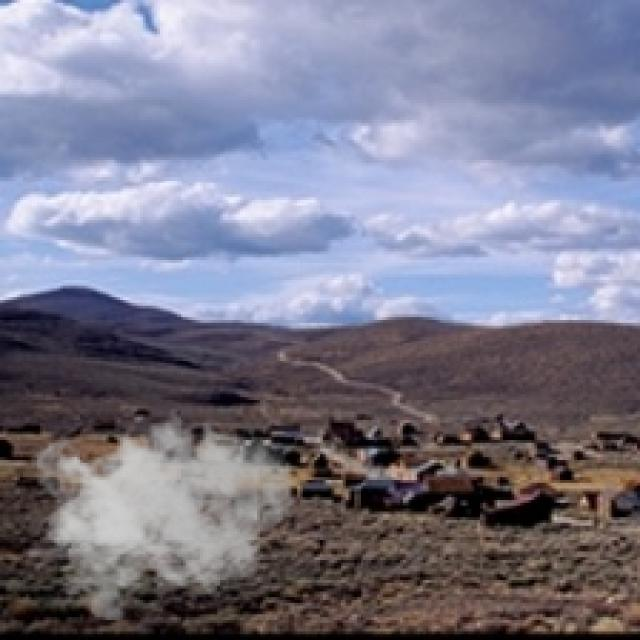smoke: (29, 400, 297, 620)
